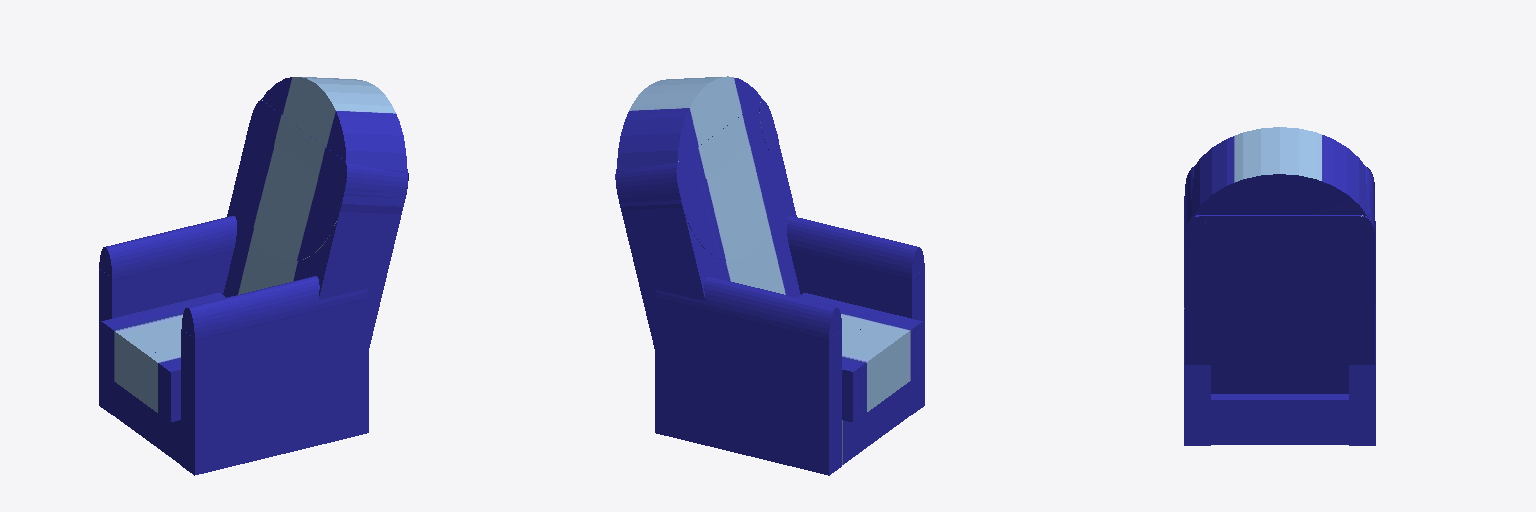
3 renders of one model, left to right at view 1: azimuth 30°, elevation 25°; view 2: azimuth 150°, elevation 25°; view 3: azimuth 270°, elevation 25°, orthographic.
Visible parts, largest first — view 1: Plano; view 2: Plano; view 3: Plano.
Part boxes in pixels (x1,y1,x2,y2): Plano: (99,77,408,475); Plano: (615,76,924,475); Plano: (1184,127,1375,445).
Bounding box in the file's own units: 2.76 × 3.47 × 1.9.
Materials: 1 (1 with a texture image).